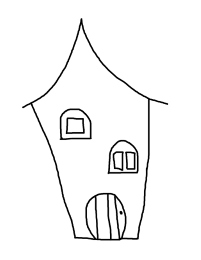closed_window: (103, 133, 141, 181), (54, 106, 94, 144)
door: (81, 188, 132, 245)
single_line_roof: (17, 13, 174, 114)
wall: (29, 106, 161, 248)
